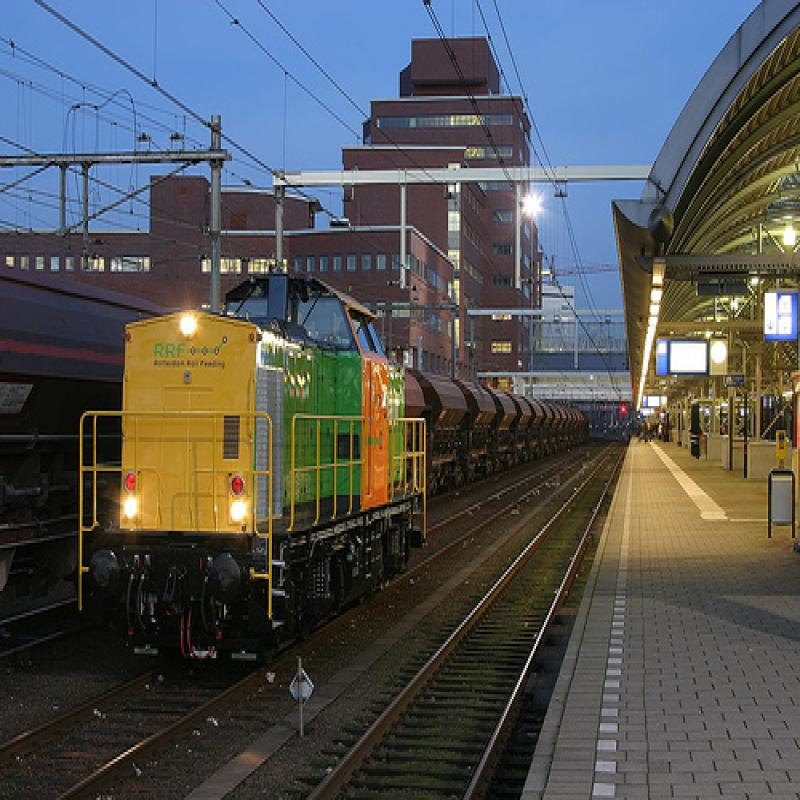train: (70, 270, 590, 681)
